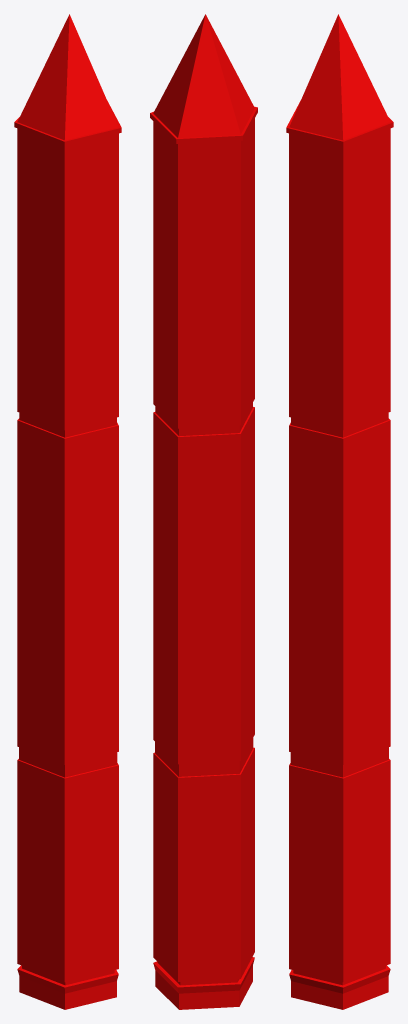
Rendered from Rockets_Model.fbx.
3 views of the same model, side by side, from view 1: azimuth 30°, elevation 25°; view 2: azimuth 150°, elevation 25°; view 3: azimuth 330°, elevation 25° (orthographic).
Visible parts, largest first — view 1: pCylinder1; view 2: pCylinder1; view 3: pCylinder1.
Part boxes in pixels (box(x1,y1,x2,y2)): pCylinder1: box(14, 14, 121, 1009); pCylinder1: box(150, 14, 257, 1009); pCylinder1: box(286, 14, 393, 1009).
Size of the model in its own units: 12.62 by 127 by 12.44.
